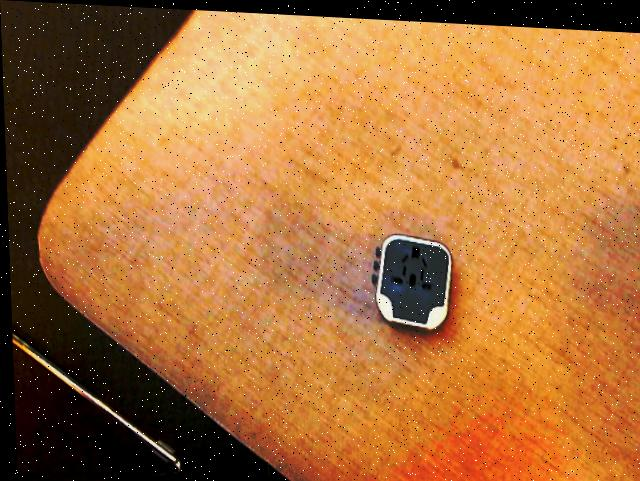adapter: (368, 228, 451, 327)
